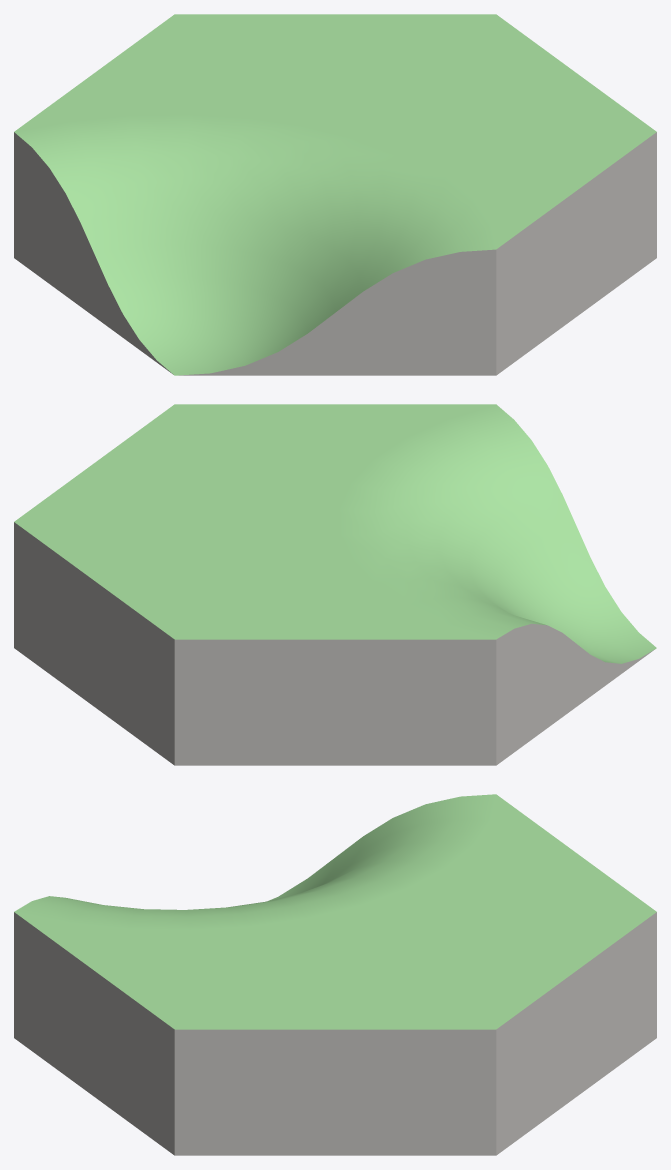
The model's file is Terrain_Grass_Hill_Curve_Inner_Sharp.glb.
The picture shows the model from 3 angles, top to bottom: view 1: azimuth 30°, elevation 25°; view 2: azimuth 150°, elevation 25°; view 3: azimuth 270°, elevation 25°; orthographic projection.
Parts seen in each view (by area): view 1: object1; view 2: object1; view 3: object1.
Boxes of the visible parts, x1,y1,x2,y2 form: object1: (14,14,656,375); object1: (14,404,656,765); object1: (14,794,656,1155).
Size of the model in its own units: 1 by 0.25 by 1.15.
